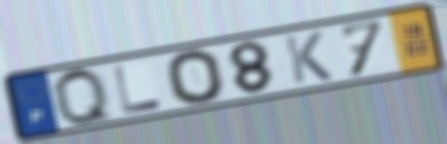7: (339, 17, 386, 79)
8: (226, 38, 276, 96)
K: (281, 29, 335, 86)
L: (110, 63, 166, 116)
O: (162, 48, 229, 107)
Q: (49, 66, 119, 127)
